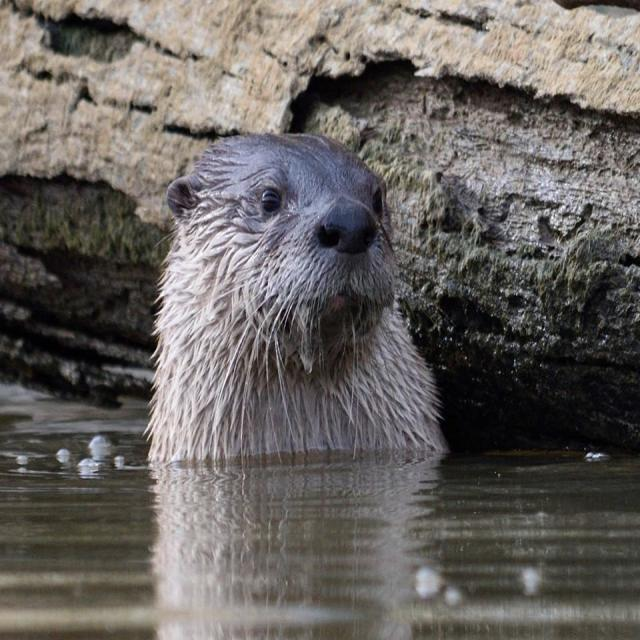otter: (146, 134, 446, 462)
